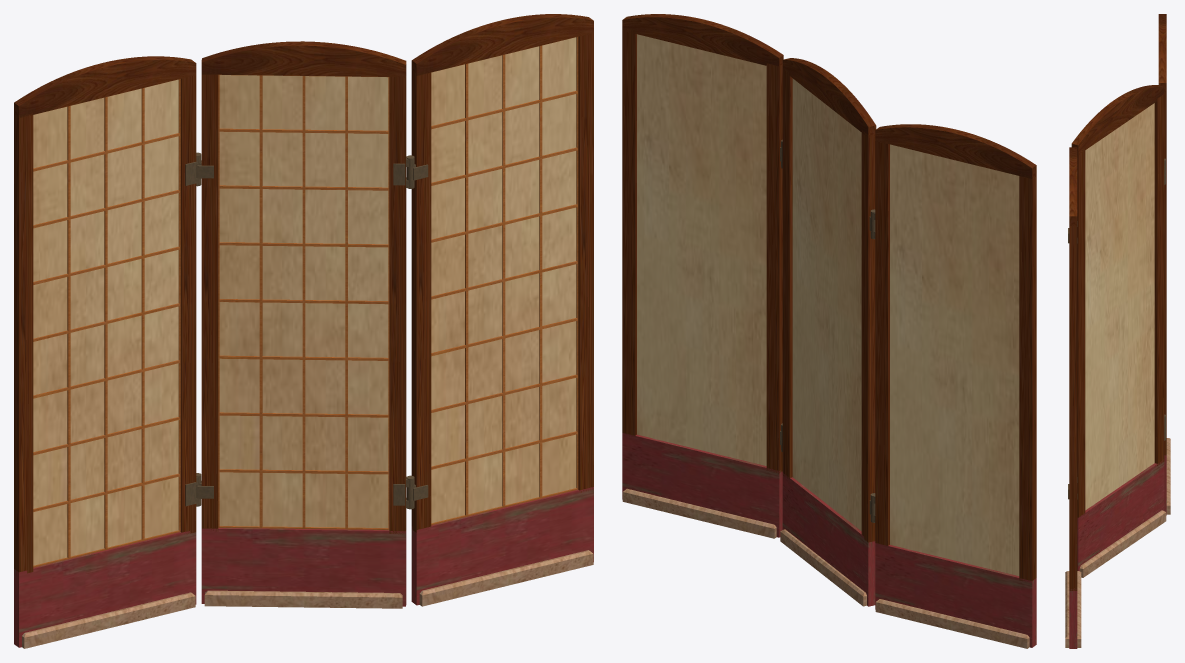
File: Other_Folding_screen__0039.glb
3 views of the same model, side by side, from view 1: azimuth 30°, elevation 25°; view 2: azimuth 150°, elevation 25°; view 3: azimuth 270°, elevation 25° (orthographic). The views are drawn at different scales.
Parts seen in each view (by area): view 1: panel_1::shoji_paper, panel_0::shoji_paper, panel_2::shoji_paper, panel_1::bottom_rail, panel_2::bottom_rail, panel_0::bottom_rail, panel_1::shoji_grid, panel_0::shoji_grid, panel_2::shoji_grid, panel_0::stile_0, panel_2::stile_0, panel_1::stile_0 (+9 smaller); view 2: panel_2::shoji_paper, panel_0::shoji_paper, panel_1::shoji_paper, panel_0::bottom_rail, panel_2::bottom_rail, panel_0::stile_0, panel_2::stile_0, panel_2::stile_1, panel_0::stile_1, panel_1::stile_0, panel_1::bottom_rail, panel_1::stile_1 (+6 smaller); view 3: panel_1::shoji_paper, panel_1::bottom_rail, panel_1::stile_0, panel_2::stile_1, panel_1::stile_1, panel_1::crown_arch, panel_1::base_foot, panel_0::stile_1, panel_2::base_foot, panel_2::crown_arch, panel_0::crown_arch, panel_2::bottom_rail (+1 smaller).
Part boxes in pixels (<box>): panel_1::shoji_paper: <box>219,75,388,527</box>; panel_0::shoji_paper: <box>33,79,178,565</box>; panel_2::shoji_paper: <box>431,37,576,523</box>; panel_1::bottom_rail: <box>201,528,406,606</box>; panel_2::bottom_rail: <box>411,487,593,605</box>; panel_0::bottom_rail: <box>14,530,196,647</box>; panel_1::shoji_grid: <box>218,74,389,529</box>; panel_0::shoji_grid: <box>33,79,180,567</box>; panel_2::shoji_grid: <box>431,37,578,525</box>; panel_0::stile_0: <box>14,113,33,573</box>; panel_2::stile_0: <box>411,69,431,532</box>; panel_1::stile_0: <box>201,74,218,531</box>; panel_2::shoji_paper: <box>637,34,766,465</box>; panel_0::shoji_paper: <box>890,144,1019,575</box>; panel_1::shoji_paper: <box>792,78,861,530</box>; panel_0::bottom_rail: <box>875,543,1036,647</box>; panel_2::bottom_rail: <box>622,433,782,537</box>; panel_0::stile_0: <box>1019,174,1036,580</box>; panel_2::stile_0: <box>766,63,782,473</box>; panel_2::stile_1: <box>622,28,636,436</box>; panel_0::stile_1: <box>875,139,889,545</box>; panel_1::stile_0: <box>861,130,875,542</box>; panel_1::bottom_rail: <box>782,473,875,606</box>; panel_1::stile_1: <box>782,68,792,479</box>; panel_1::shoji_paper: <box>1085,103,1154,510</box>; panel_1::bottom_rail: <box>1077,460,1164,570</box>; panel_1::stile_0: <box>1154,94,1164,465</box>; panel_2::stile_1: <box>1069,223,1077,590</box>; panel_1::stile_1: <box>1077,148,1085,517</box>; panel_1::crown_arch: <box>1071,85,1164,154</box>; panel_1::base_foot: <box>1079,510,1166,577</box>; panel_0::stile_1: <box>1164,92,1166,455</box>; panel_2::base_foot: <box>1065,571,1081,647</box>; panel_2::crown_arch: <box>1069,147,1077,225</box>; panel_0::crown_arch: <box>1158,14,1166,92</box>; panel_2::bottom_rail: <box>1069,588,1077,648</box>.
Size of the model in its own units: 1.8 by 1.85 by 0.3968.
Materials: 6 (6 with a texture image).
